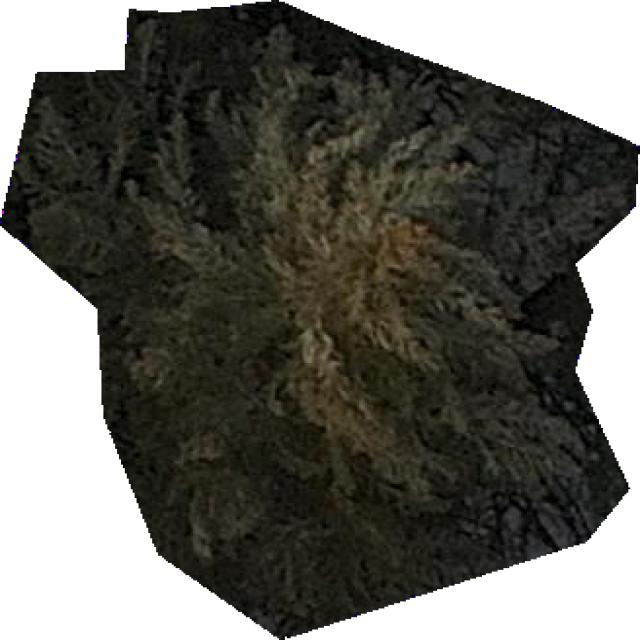spruce: (0, 2, 638, 638)
